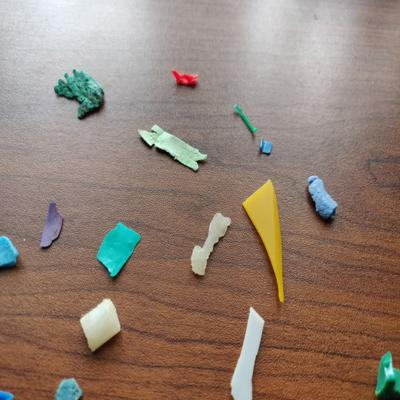plastic: (242, 174, 286, 300), (135, 118, 213, 177), (225, 306, 268, 400), (185, 210, 235, 279), (51, 68, 108, 123), (76, 297, 127, 355), (95, 219, 143, 280), (300, 172, 343, 226), (372, 349, 400, 400), (40, 201, 65, 250), (233, 102, 262, 139), (48, 376, 91, 400), (166, 65, 206, 90), (1, 234, 24, 270), (258, 138, 279, 161)
